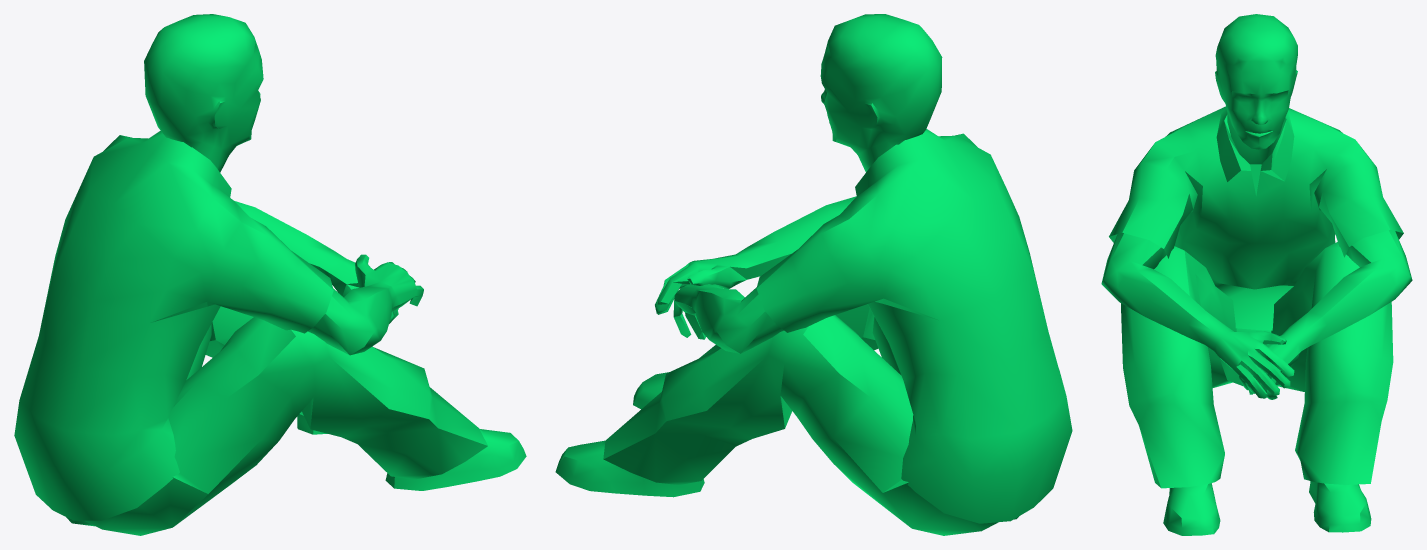
File: SM_Man_Sit01.glb
The picture shows the model from 3 angles, left to right: view 1: azimuth 30°, elevation 25°; view 2: azimuth 150°, elevation 25°; view 3: azimuth 270°, elevation 25°; orthographic projection. The views are drawn at different scales.
Visible parts, largest first — view 1: SM_Man_Sit01; view 2: SM_Man_Sit01; view 3: SM_Man_Sit01.
Part boxes in pixels (x1,y1,x2,y2): SM_Man_Sit01: (14, 14, 526, 535); SM_Man_Sit01: (555, 14, 1072, 535); SM_Man_Sit01: (1101, 14, 1412, 535).
Bounding box in the file's own units: 0.9292 × 0.9459 × 0.6581.
